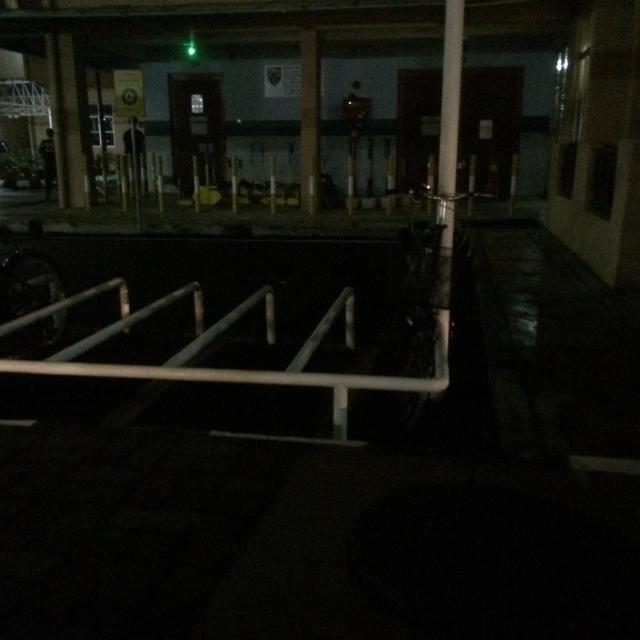Bicycle: (0, 237, 100, 358)
